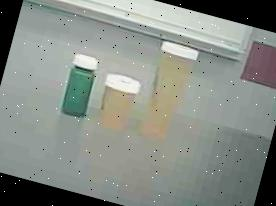Bottle A: (135, 35, 203, 150)
Bottle B: (91, 68, 145, 138)
Bottle C: (55, 47, 106, 124)
